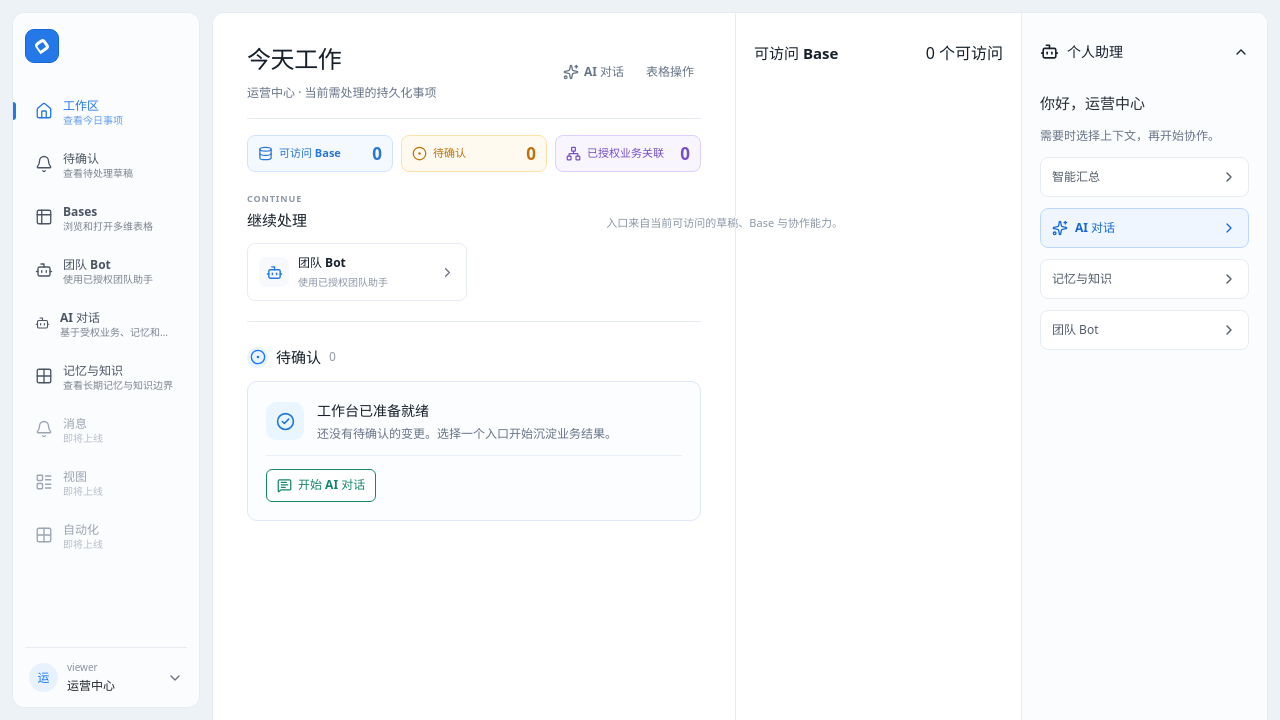
Scenario: renders the fixed empty state for a permitted empty Base scope
What coordinates should you click on to do the following:
click the button with aria-label "Bases：浏览和打开多维表格"
I would click on:
 (106, 217)
Its box is [25, 193, 187, 241].
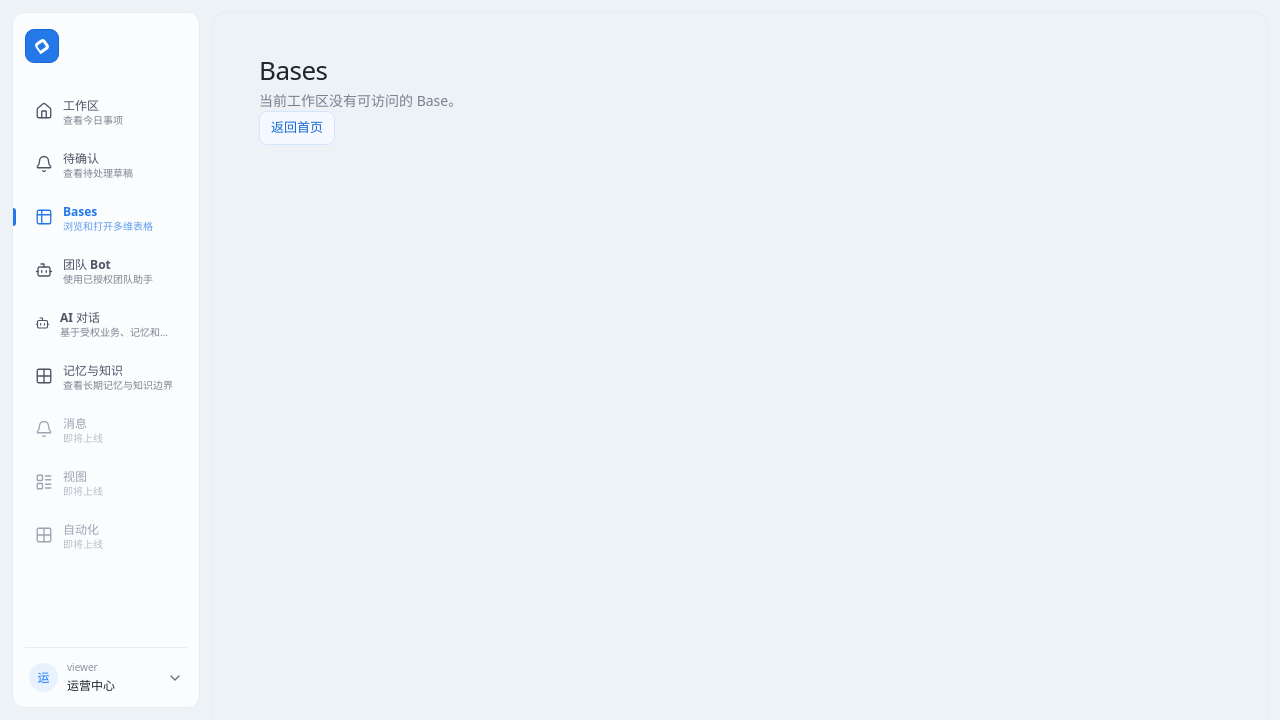
Check: the text "当前工作区没有可访问的 Base。" is shown, box [259, 91, 462, 110]
